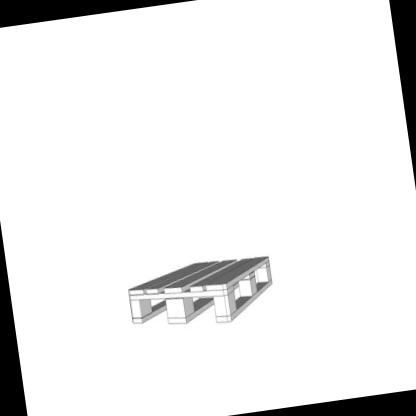BoxFace: (128, 254, 275, 329)
